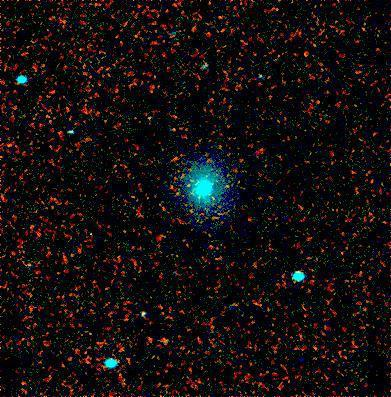star: (149, 325, 179, 355)
